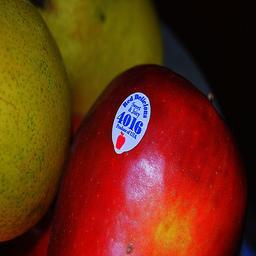apple: (45, 61, 247, 256), (44, 3, 162, 123)
